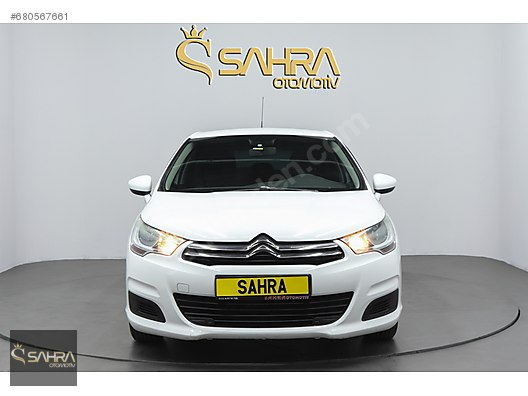citroen: (116, 121, 415, 349)
